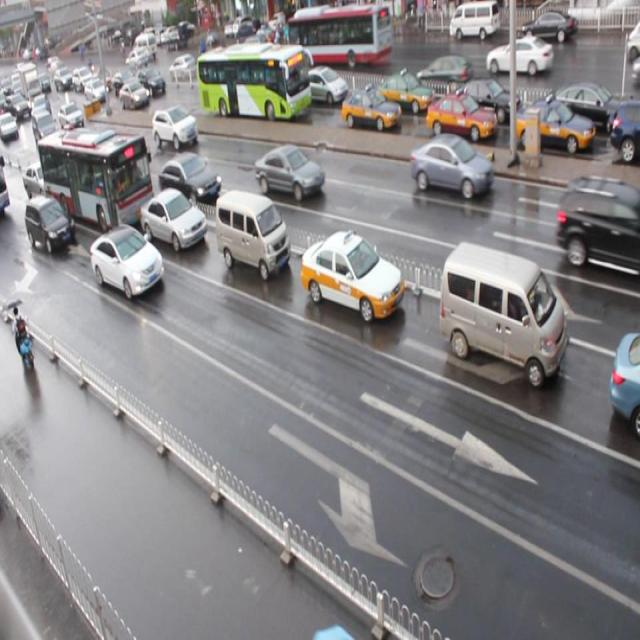car: (300, 229, 403, 321), (555, 176, 640, 276), (408, 133, 492, 204), (90, 224, 164, 300), (515, 101, 595, 160), (534, 78, 616, 135), (140, 188, 208, 252), (254, 145, 324, 201), (159, 152, 222, 207), (426, 93, 495, 143), (608, 330, 640, 432), (452, 79, 519, 126), (26, 193, 73, 255), (372, 69, 433, 114), (340, 88, 400, 132), (153, 106, 198, 152), (298, 66, 346, 106), (610, 99, 640, 161), (22, 160, 62, 204), (119, 81, 149, 109), (138, 69, 164, 95), (58, 105, 84, 130), (112, 70, 136, 97)
truck: (438, 240, 568, 389), (215, 188, 290, 284)
van: (38, 127, 154, 235), (198, 43, 311, 126)
